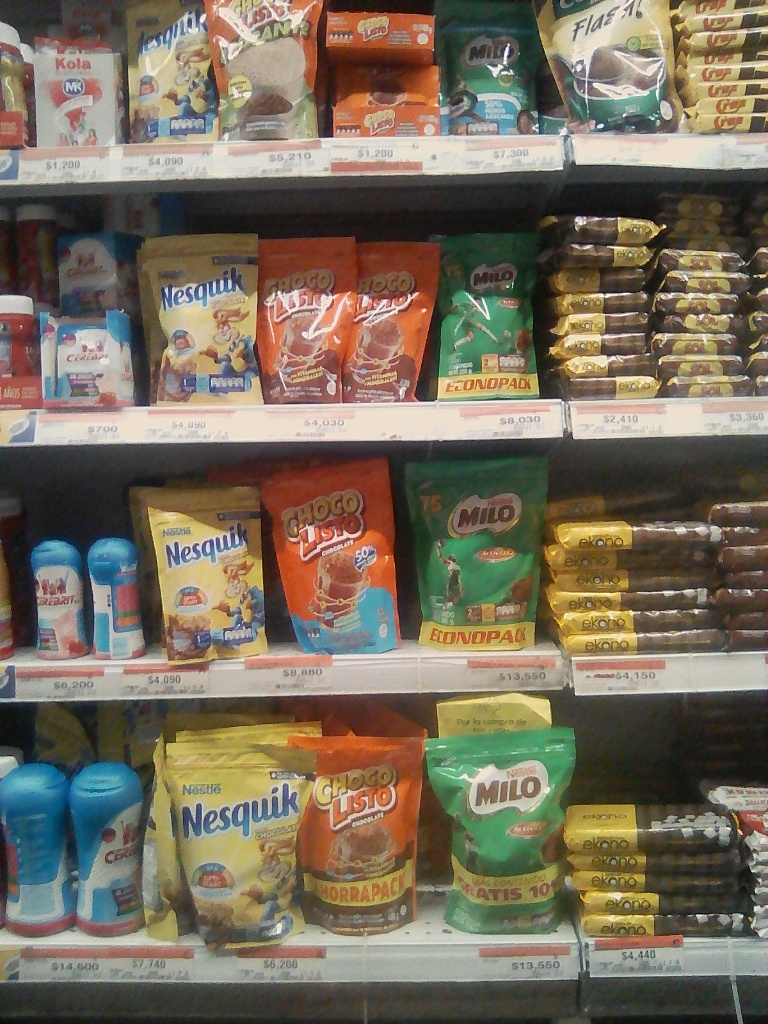COL0170102DYP25000: (197, 1, 326, 137)
COL0170103DYP20000: (263, 233, 353, 398)
COL0170103DYP44000: (283, 727, 428, 937)
COL0170103SOB02000: (334, 59, 436, 108)
COL0170104DYP20000: (268, 462, 404, 648)
COL0170203DYP25000: (428, 229, 548, 405)
COL0170205DYP20000: (432, 1, 549, 144)
COL0170303DYP20000: (140, 477, 272, 659)
